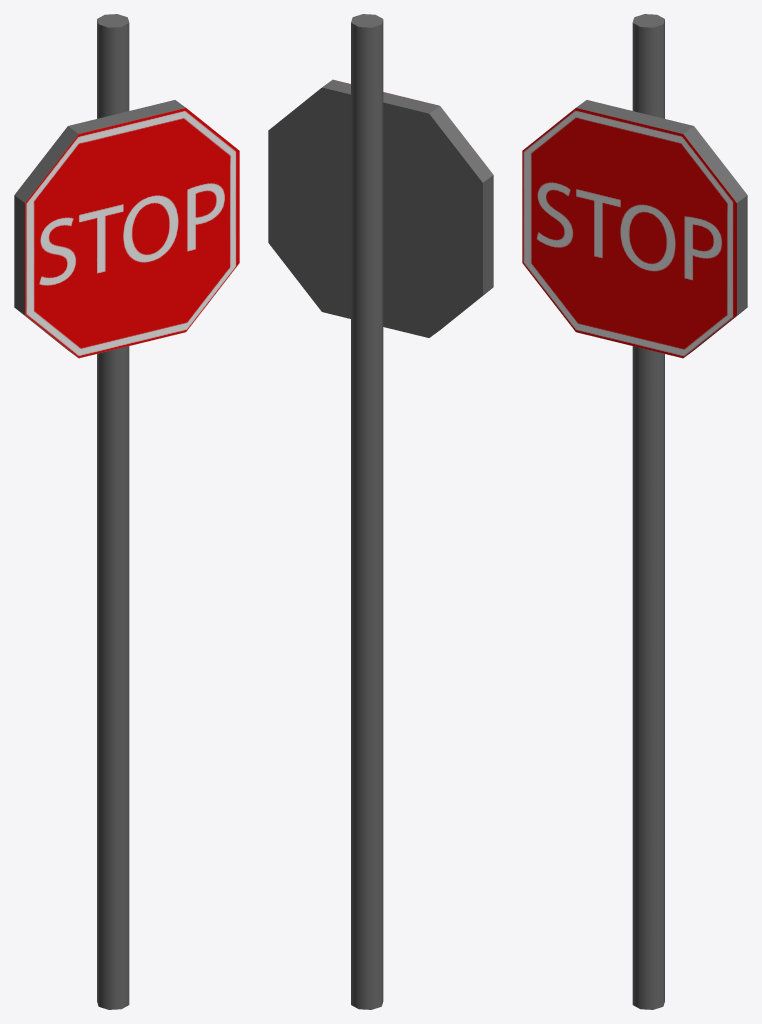
Rendered from sm_stopSign_GEO.fbx.
3 views of the same model, side by side, from view 1: azimuth 30°, elevation 25°; view 2: azimuth 150°, elevation 25°; view 3: azimuth 330°, elevation 25° (orthographic).
Visible parts, largest first — view 1: sm_stopSign_GEO; view 2: sm_stopSign_GEO; view 3: sm_stopSign_GEO.
Boxes of the visible parts, x1=… form: sm_stopSign_GEO: x1=14, y1=14, x2=239, y2=1009; sm_stopSign_GEO: x1=268, y1=14, x2=493, y2=1009; sm_stopSign_GEO: x1=522, y1=14, x2=747, y2=1009.
Bounding box in the file's own units: 0.8 × 3.5 × 0.1786.
1 material, 1 textured.
